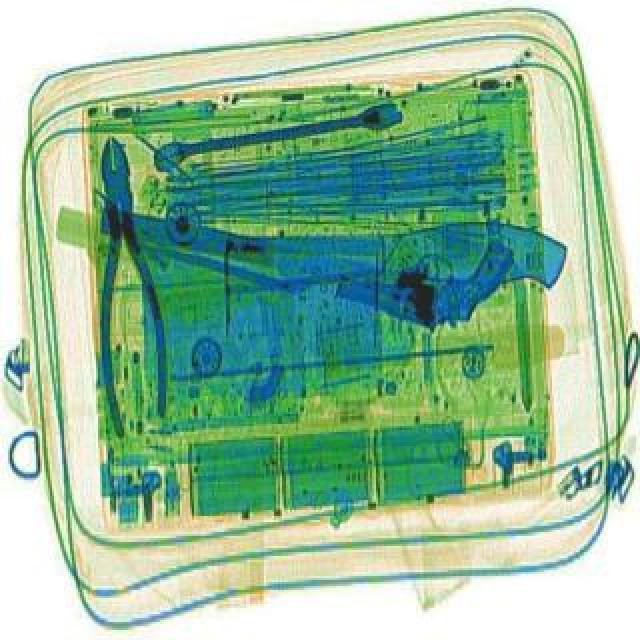gun: (334, 206, 518, 348)
knife: (256, 212, 568, 298)
wrench: (82, 138, 178, 442)
